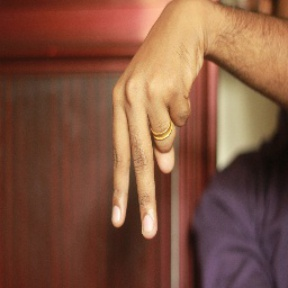Y: (107, 38, 198, 245)
